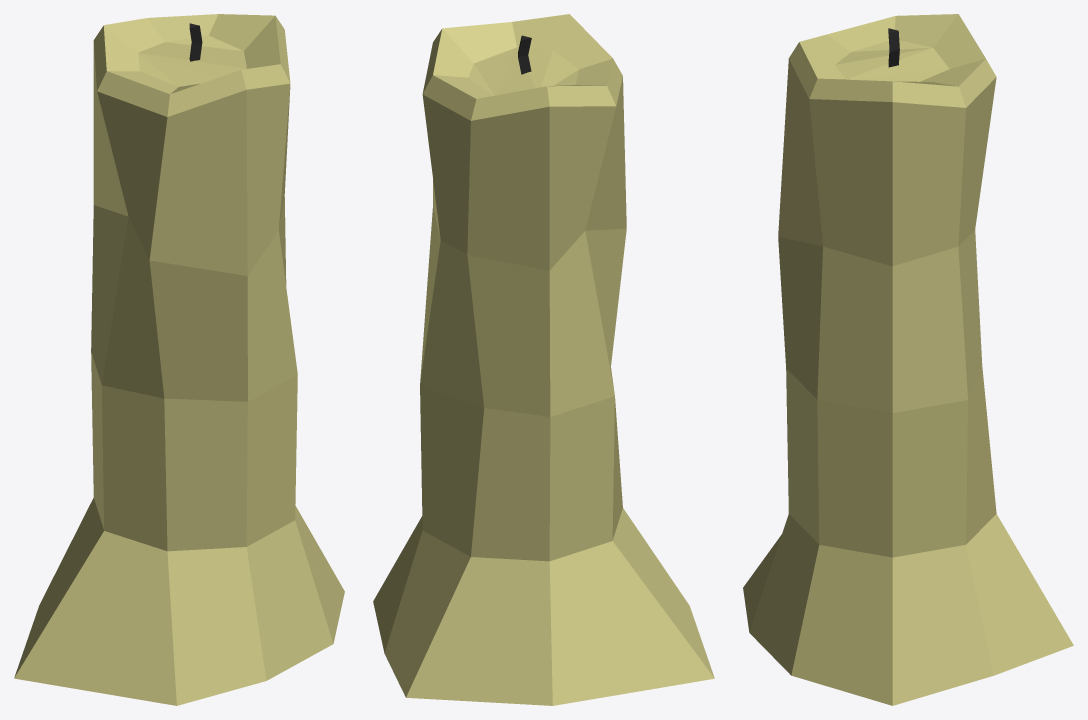
Rendered from candle_1_mat.fbx.
3 views of the same model, side by side, from view 1: azimuth 30°, elevation 25°; view 2: azimuth 150°, elevation 25°; view 3: azimuth 270°, elevation 25° (orthographic).
Parts seen in each view (by area): view 1: candle_1_mat; view 2: candle_1_mat; view 3: candle_1_mat.
Boxes of the visible parts, x1,y1,x2,y2 form: candle_1_mat: (14, 14, 344, 705); candle_1_mat: (373, 14, 714, 705); candle_1_mat: (743, 14, 1073, 705).
Bounding box in the file's own units: 72.89 × 125 × 62.18.
